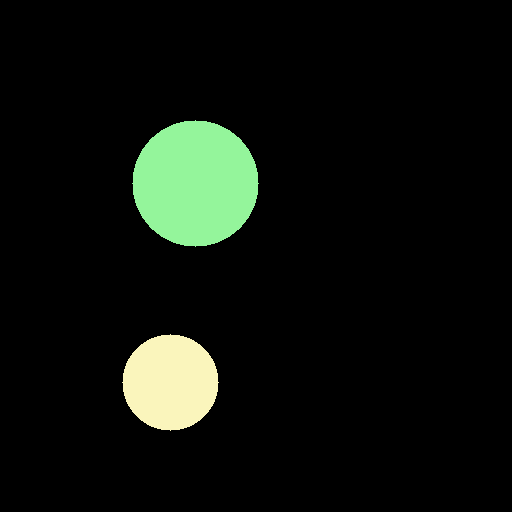circle: (132, 120, 258, 246), (122, 334, 218, 430)
